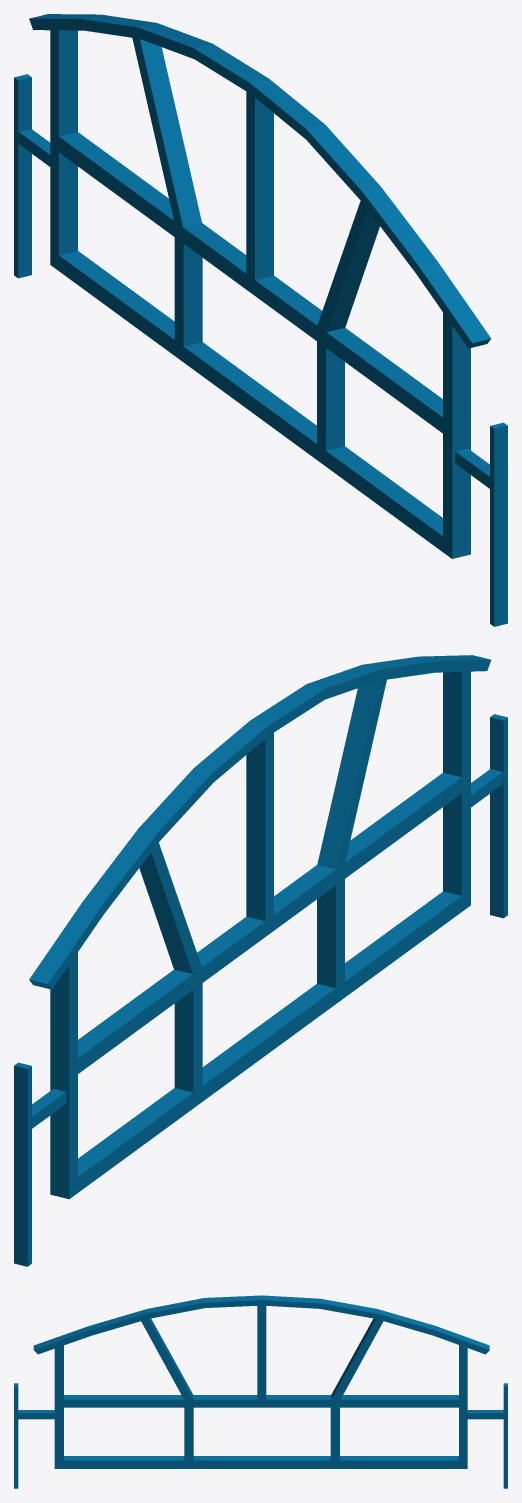
Rendered from Fense_playgroud.fbx.
3 views of the same model, one above another, from view 1: azimuth 30°, elevation 25°; view 2: azimuth 150°, elevation 25°; view 3: azimuth 270°, elevation 25° (orthographic). The views are drawn at different scales.
Parts seen in each view (by area): view 1: SM_Railings_220__36_; view 2: SM_Railings_220__36_; view 3: SM_Railings_220__36_.
Boxes of the visible parts, bbox=[...] form: SM_Railings_220__36_: bbox=[14, 14, 507, 626]; SM_Railings_220__36_: bbox=[14, 655, 507, 1266]; SM_Railings_220__36_: bbox=[14, 1295, 507, 1488].
Size of the model in its own units: 173 by 3213 by 7611.
